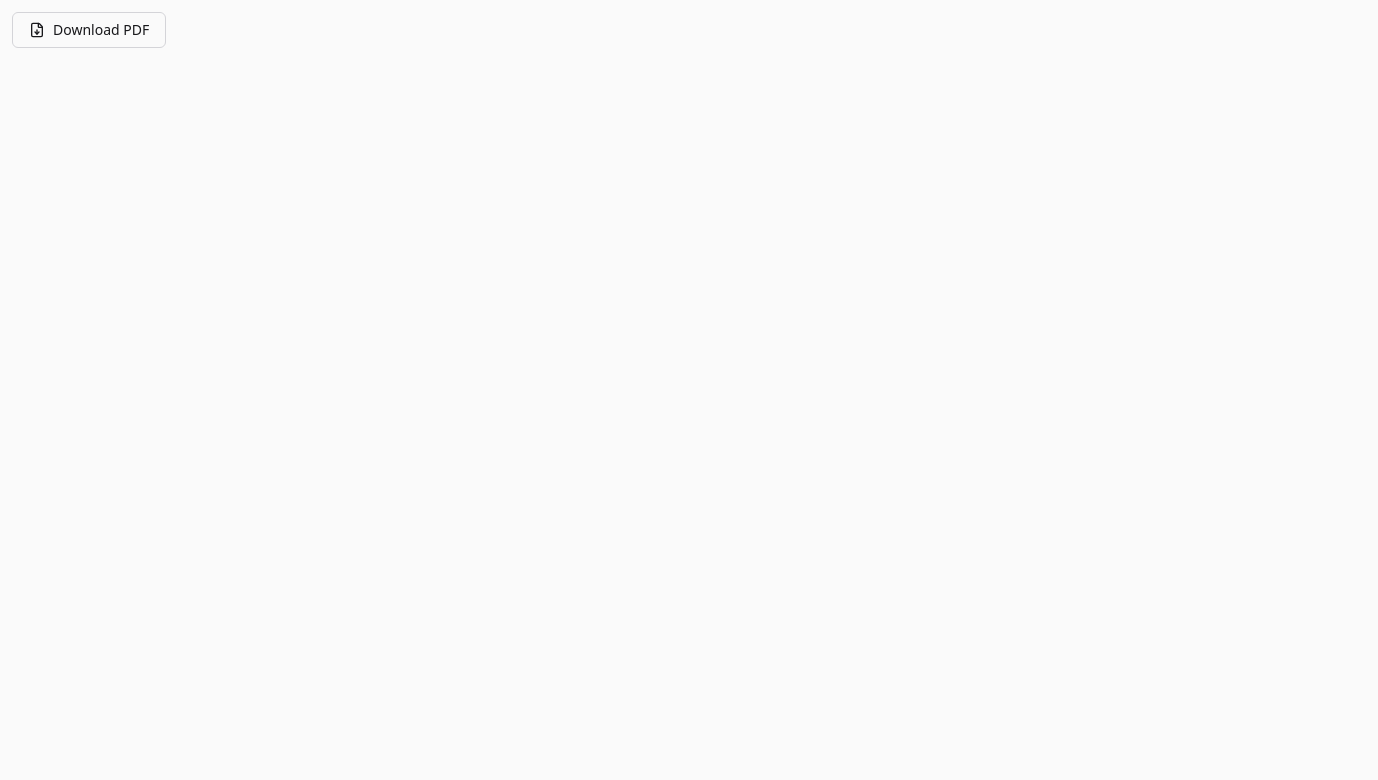
Test: Download PDF button › explains a failure and lets you try again
Click the button "Download PDF": [89, 30] box [12, 12, 166, 48]
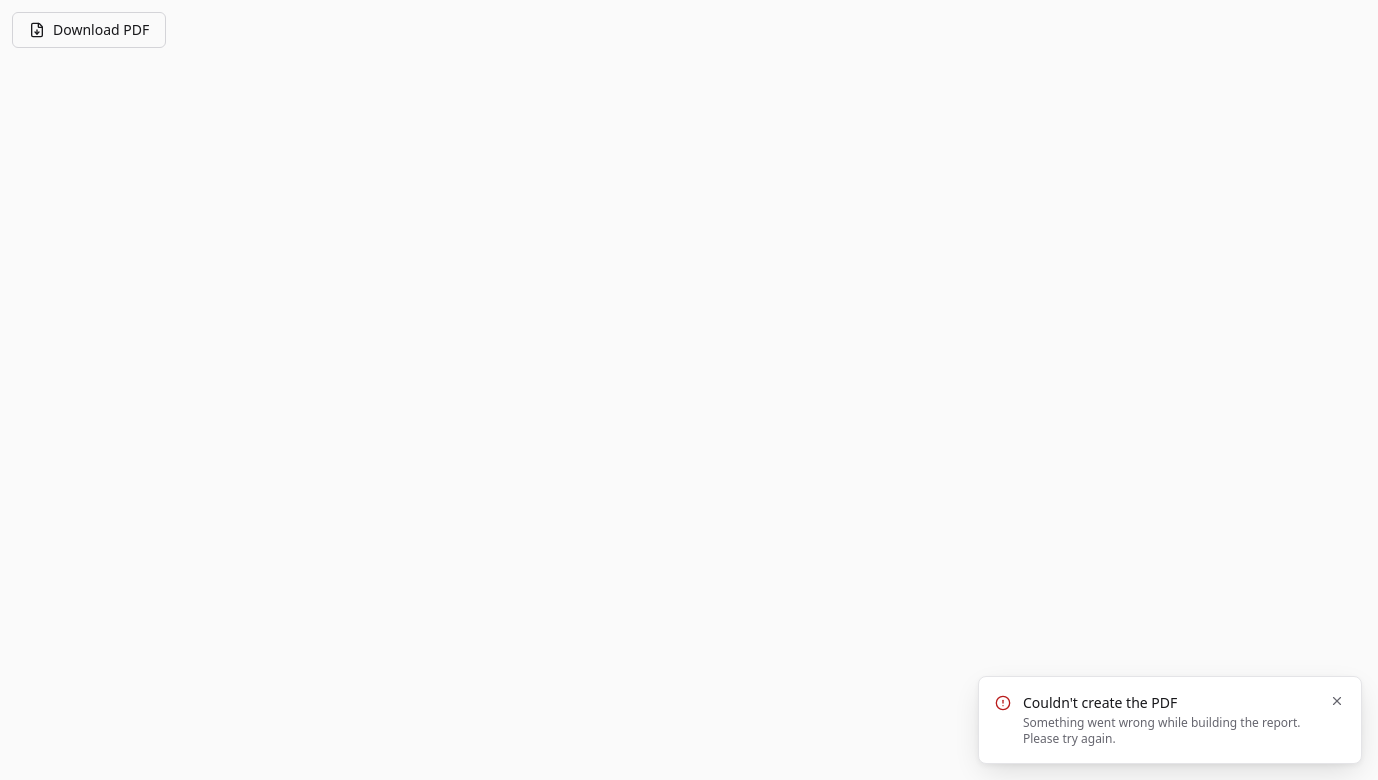
Check: the text "Couldn't create the PDF" is shown, box [1023, 693, 1177, 712]
